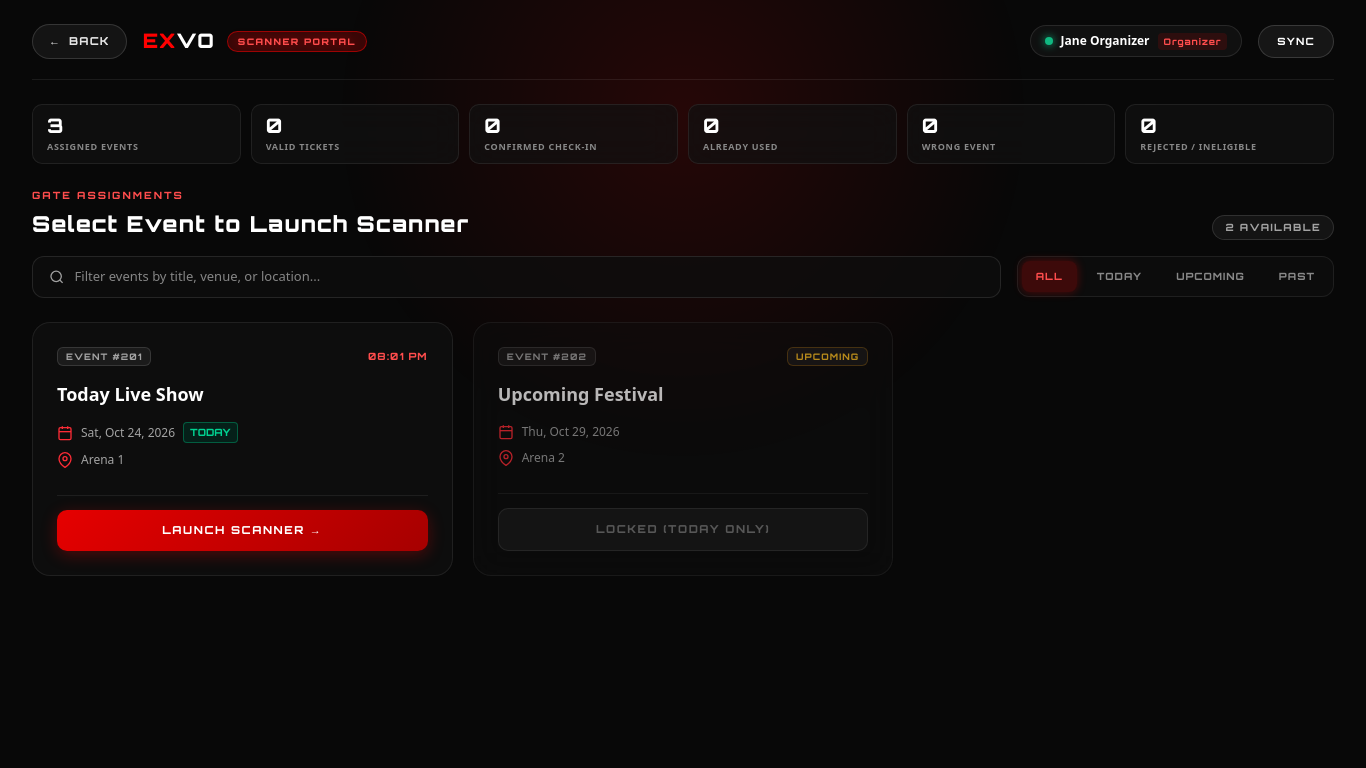
Test case: CoordinatorScannerPortal (SCRUM-30) › prevents scanner launch for upcoming and past events, allowing it only on the event date
Expected: the heading "Today Live Show" is shown, [57, 382, 204, 406]
Expected: the heading "Upcoming Festival" is shown, [498, 382, 664, 406]
Switch to 'past' tab
Click the tab "PAST".
click(1297, 277)  # box [1265, 261, 1329, 292]
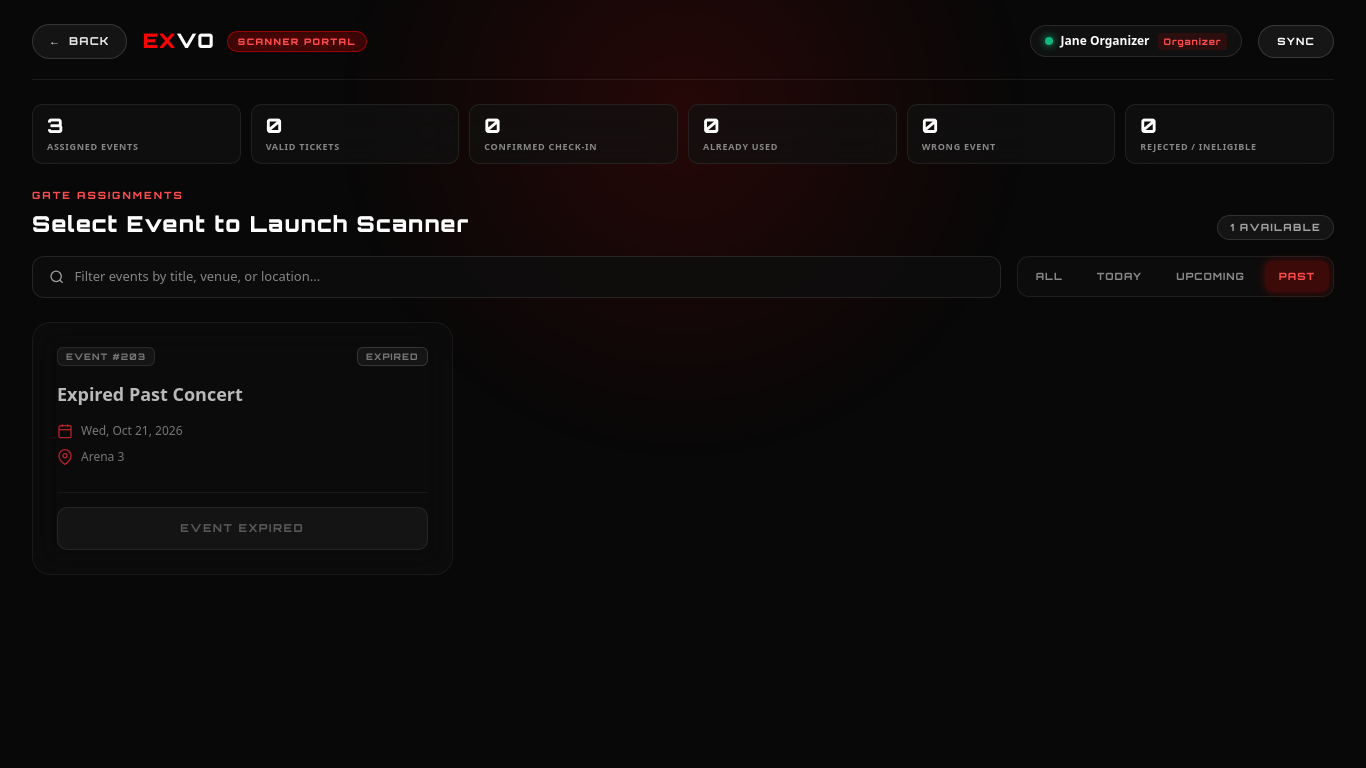
Now the heading "Expired Past Concert" is shown, box [57, 382, 243, 406]
Now the heading "Today Live Show" is gone
Now the heading "Upcoming Festival" is gone
